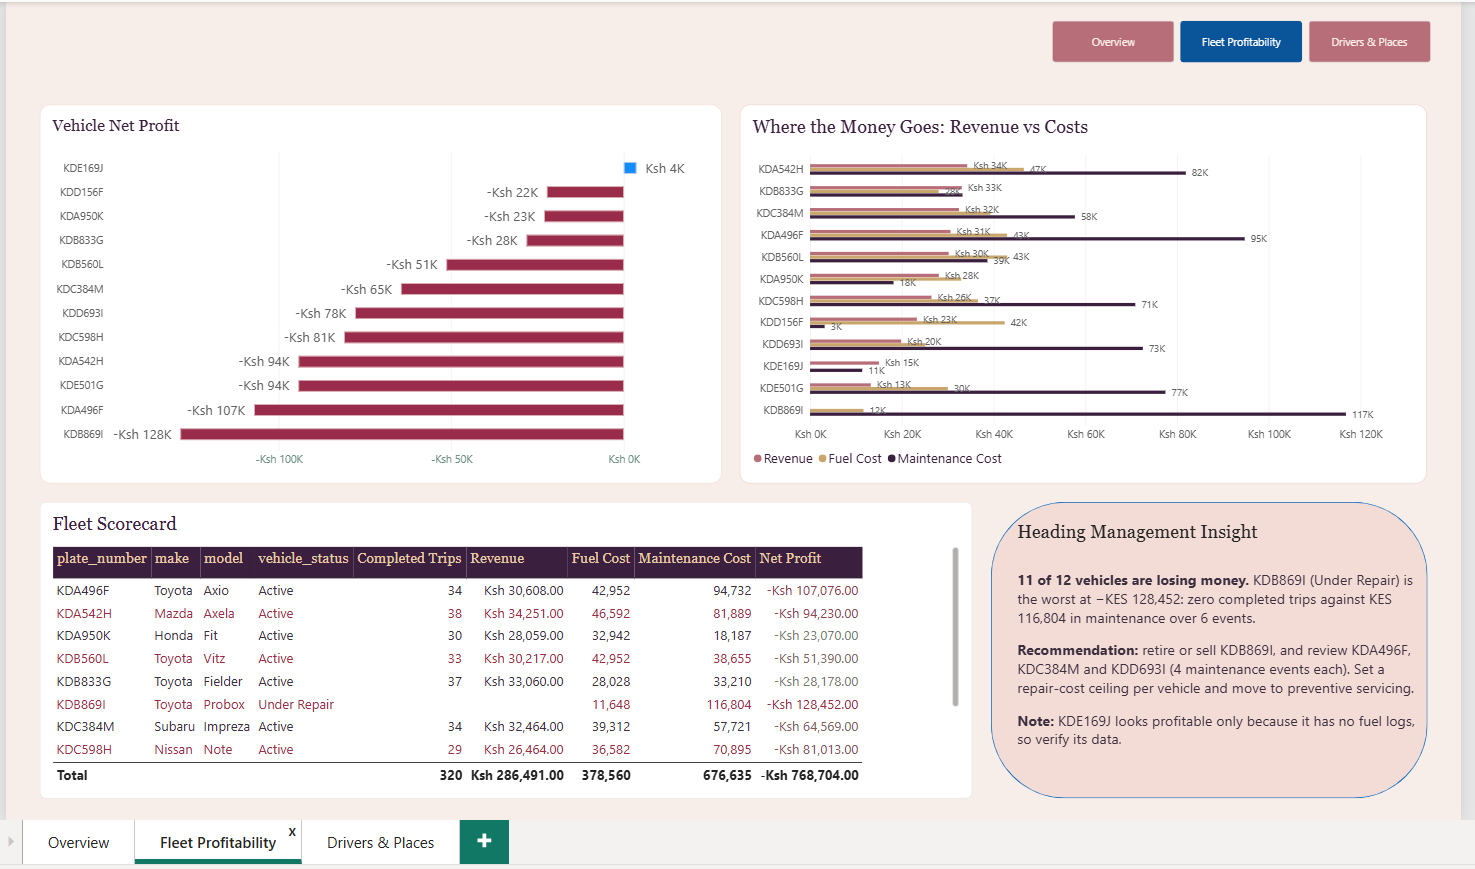

The page's visual inventory and layout, read from the dashboard file:
{"tool":"powerbi","page":{"name":"Fleet Profitability","canvas":[1920,1080],"ordinal":1},"visuals":[{"type":"clusteredBarChart","title":"Vehicle Net Profit","fields":{"Category":["haraka_fleet vehicles.plate_number"],"Y":["haraka_booking customers.Net Profit"]},"box":[45,135,900,500],"z":0},{"type":"clusteredBarChart","title":"Where the Money Goes: Revenue vs Costs","fields":{"Category":["haraka_fleet vehicles.plate_number"],"Y":["haraka_booking customers.Revenue","haraka_booking customers.Fuel Cost","haraka_booking customers.Maintenance Cost"]},"box":[969,135,906,500],"z":1000},{"type":"tableEx","title":"Fleet Scorecard","fields":{"Values":["haraka_fleet vehicles.plate_number","haraka_fleet vehicles.make","haraka_fleet vehicles.model","haraka_fleet vehicles.vehicle_status","haraka_booking customers.Completed Trips","haraka_booking customers.Revenue","haraka_booking customers.Fuel Cost","haraka_booking customers.Maintenance Cost","haraka_booking customers.Net Profit"]},"box":[45,659,1230,391],"z":2000},{"type":"shape","box":[1299,659,576,391],"z":3000},{"type":"textbox","box":[100,100,300,300],"z":3001},{"type":"textbox","box":[1335.1,684.4,540.2,365.2],"z":3002},{"type":"pageNavigator","box":[1380,25,500,55],"z":3003}]}

Visuals, with their boxes on the page's 1920x1080 design canvas (x1, y1, x2, y2). These are canvas units, not pixel positions in the 1475x869 screenshot, which may show the page scaled, cropped or inside an application window:
"Vehicle Net Profit" clusteredBarChart: [45,135,945,635]
"Where the Money Goes: Revenue vs Costs" clusteredBarChart: [969,135,1875,635]
"Fleet Scorecard" tableEx: [45,659,1275,1050]
shape: [1299,659,1875,1050]
textbox: [100,100,400,400]
textbox: [1335,684,1875,1050]
pageNavigator: [1380,25,1880,80]
